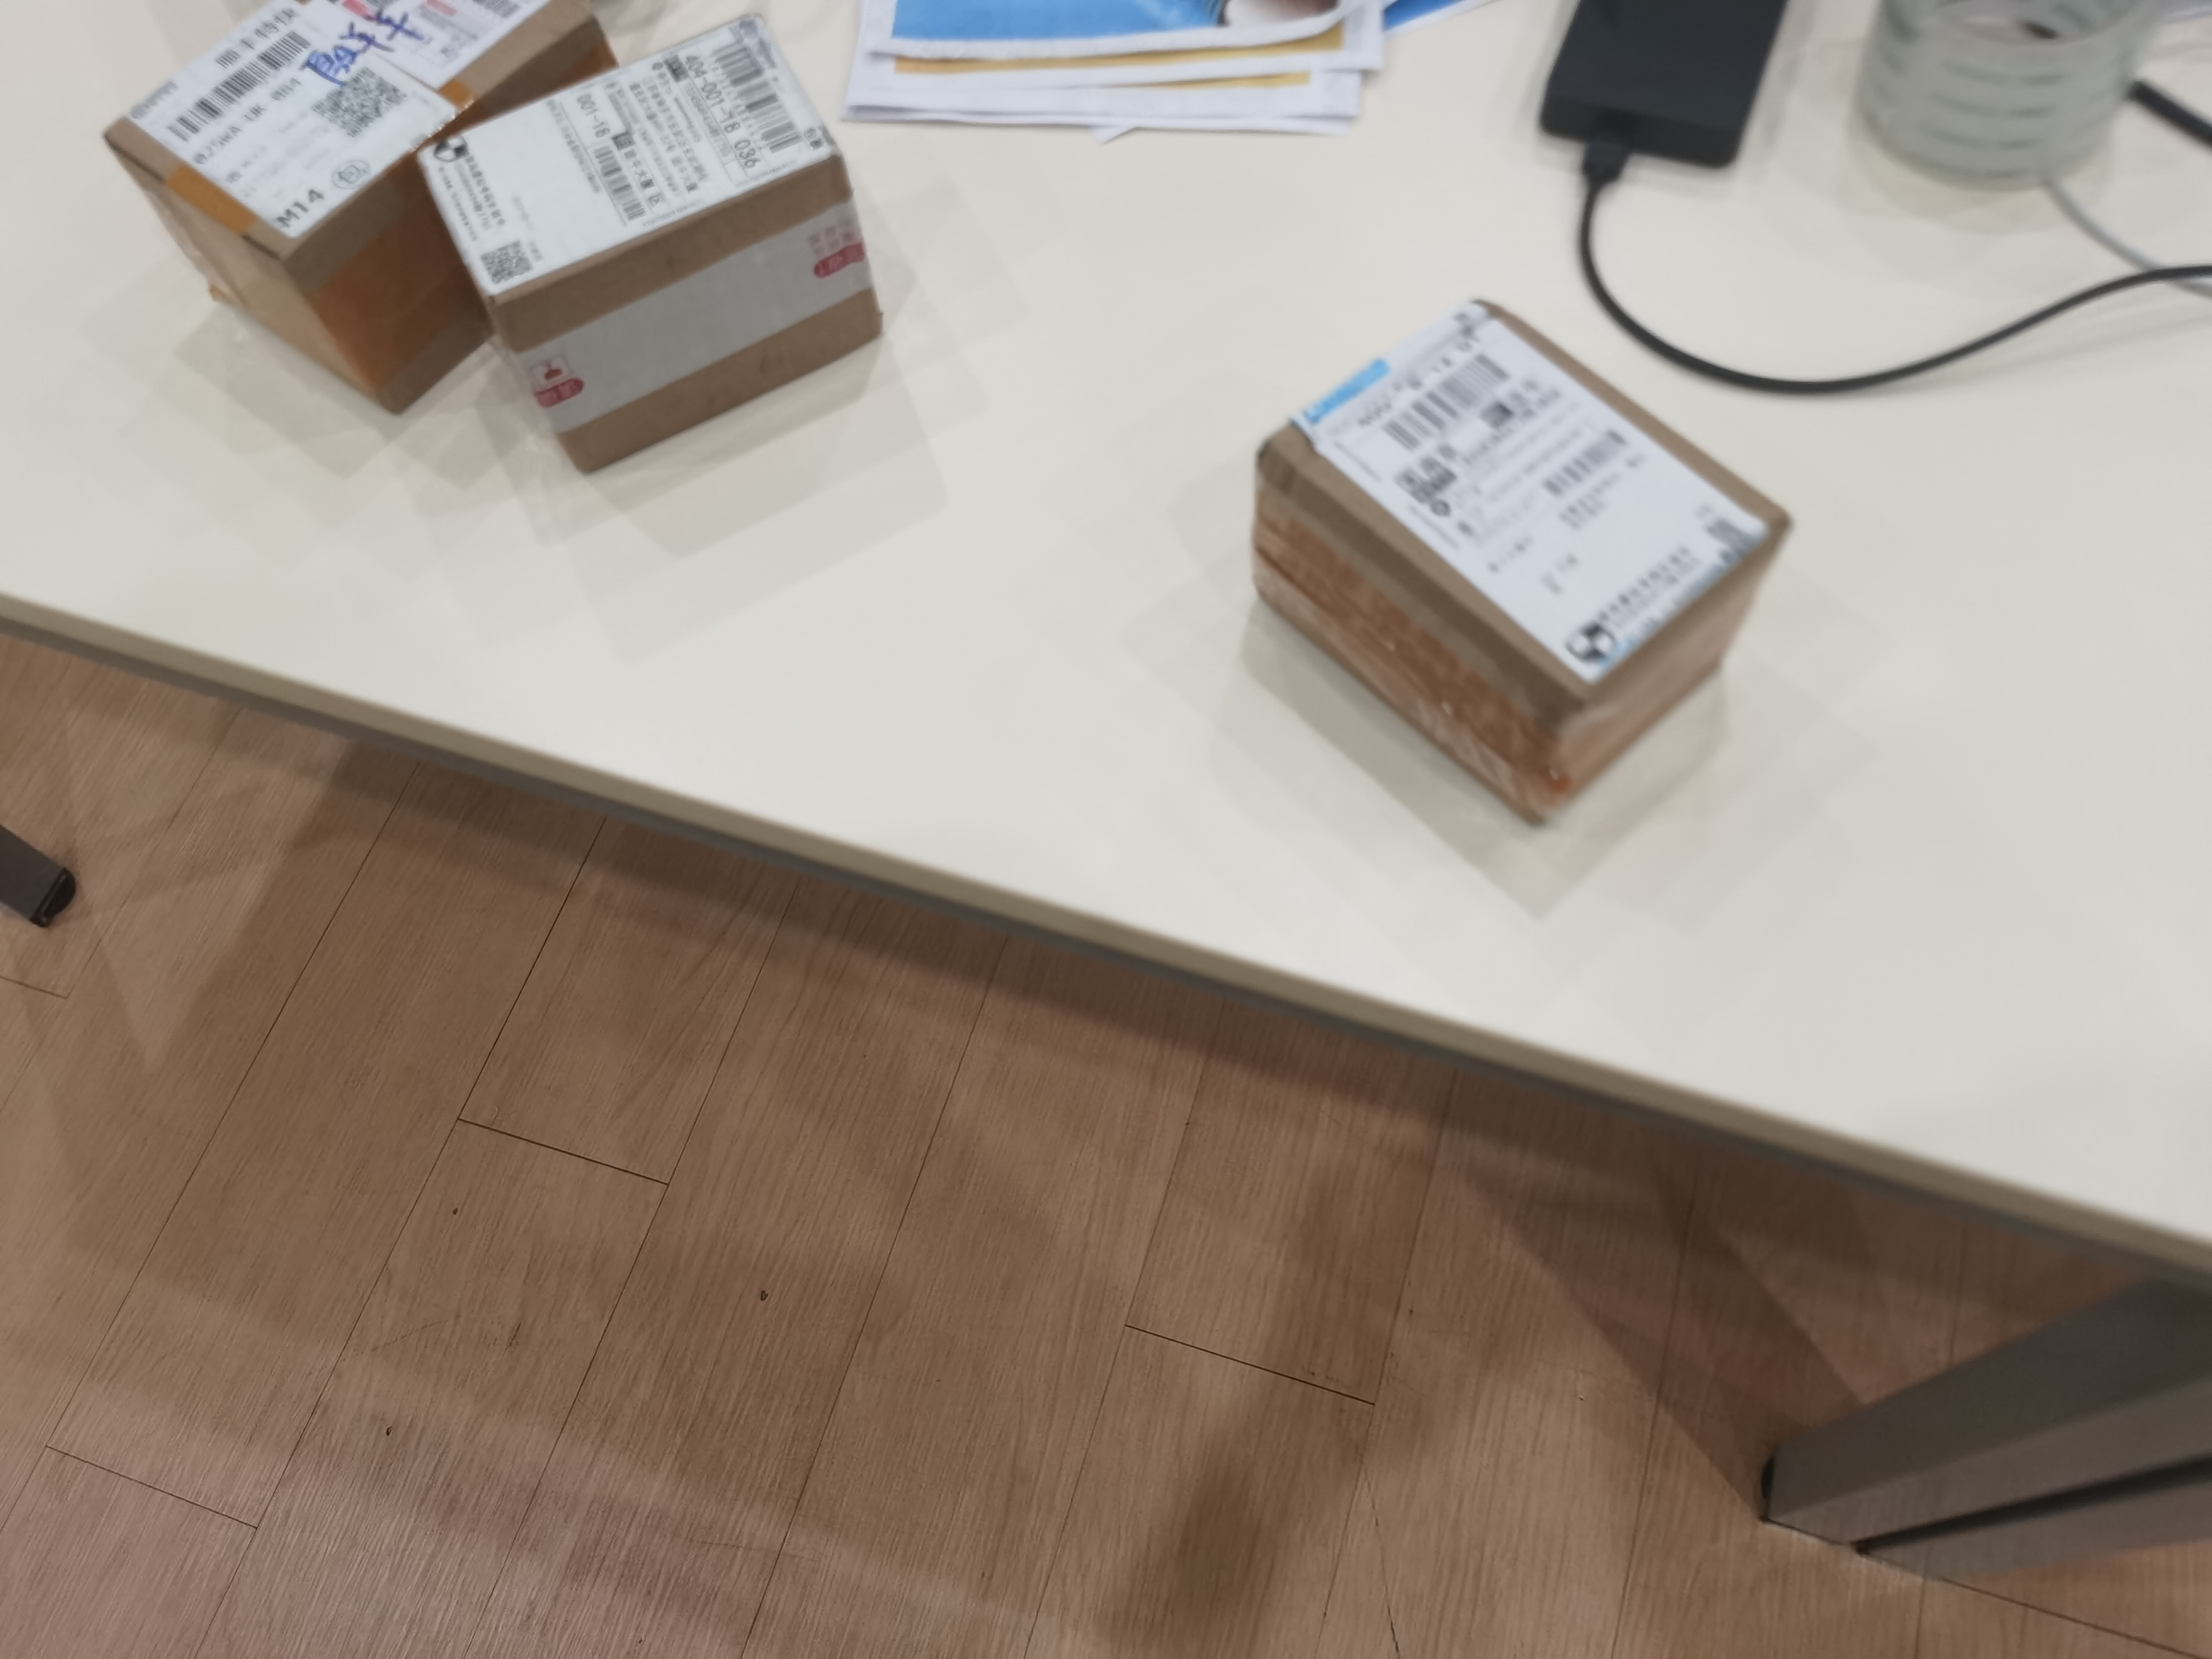box: (1205, 246, 1796, 836), (374, 28, 951, 512), (73, 2, 672, 427)
